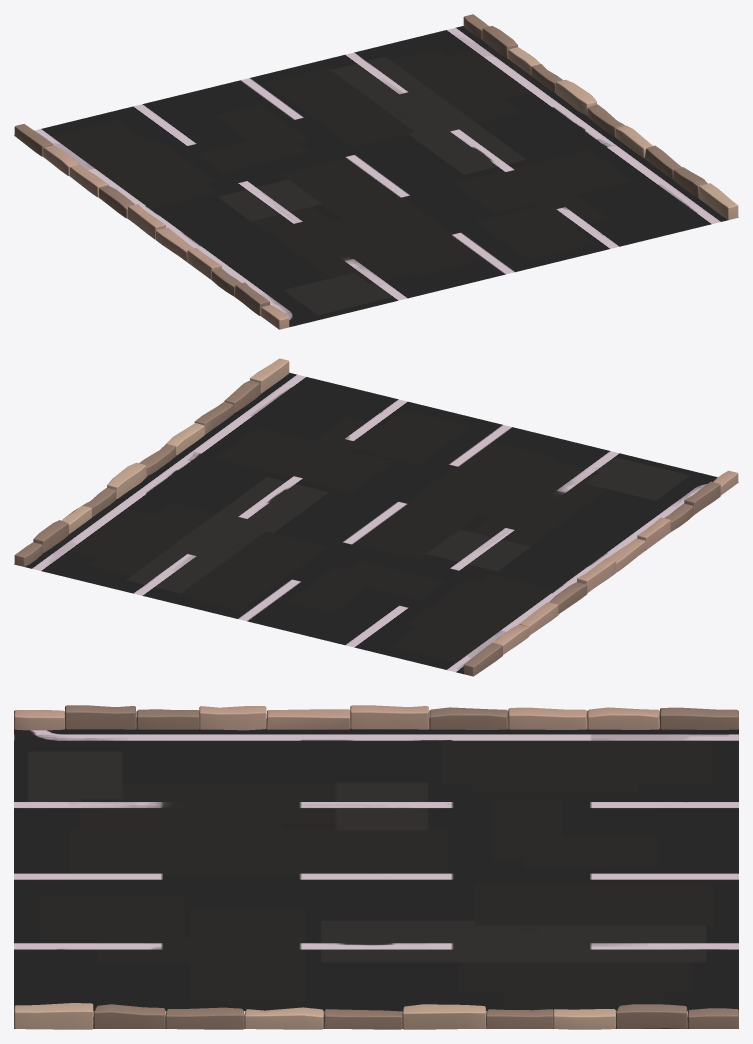
File: CityRoad_straightWide.fbx
3 renders of one model, top to bottom at view 1: azimuth 30°, elevation 25°; view 2: azimuth 150°, elevation 25°; view 3: azimuth 270°, elevation 25°, orthographic. The views are drawn at different scales.
Parts seen in each view (by area): view 1: CityRoad_straightWide_mesh; view 2: CityRoad_straightWide_mesh; view 3: CityRoad_straightWide_mesh.
Part boxes in pixels (left/top/right/bottom): CityRoad_straightWide_mesh: left=14, top=14, right=738, bottom=329; CityRoad_straightWide_mesh: left=14, top=358, right=738, bottom=676; CityRoad_straightWide_mesh: left=14, top=705, right=738, bottom=1029.
Bounding box in the file's own units: 1008 × 28.55 × 1000.
